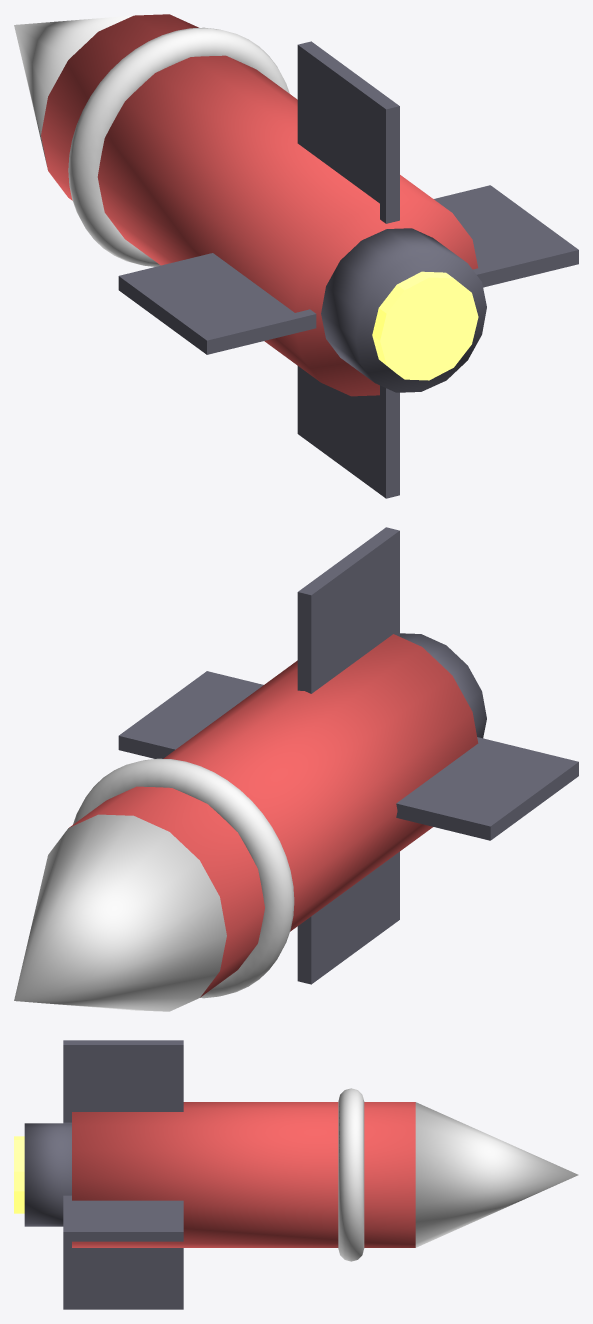
The model's file is rocket.glb.
3 views of the same model, one above another, from view 1: azimuth 30°, elevation 25°; view 2: azimuth 150°, elevation 25°; view 3: azimuth 270°, elevation 25° (orthographic). The views are drawn at different scales.
Visible parts, largest first — view 1: rocket; view 2: rocket; view 3: rocket.
Part boxes in pixels (x1=…): rocket: x1=14, y1=14, x2=578, y2=498; rocket: x1=14, y1=527, x2=578, y2=1011; rocket: x1=14, y1=1040, x2=578, y2=1309.
Bounding box in the file's own units: 0.68 × 0.68 × 1.31.
